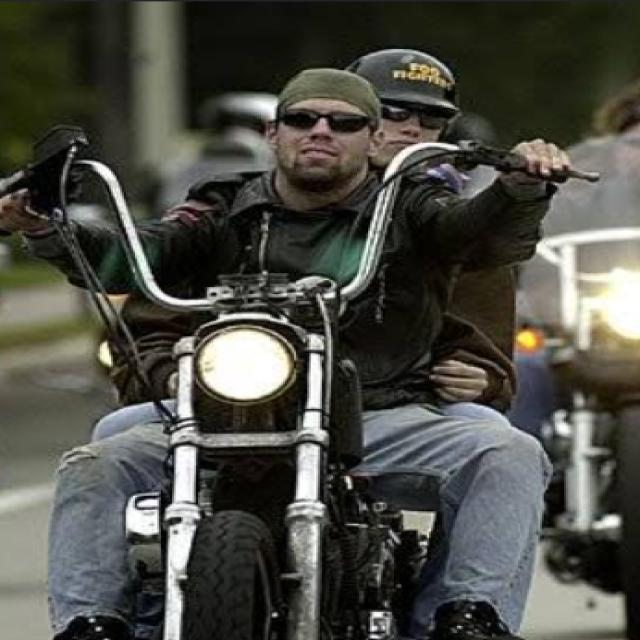WithoutHelmet: (4, 67, 568, 633), (352, 45, 476, 164)
